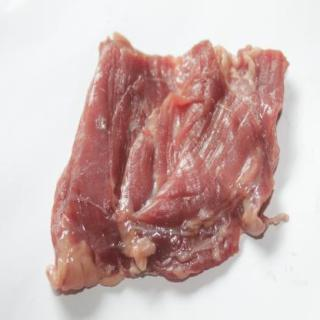Daging Sapi: (50, 33, 289, 298)
